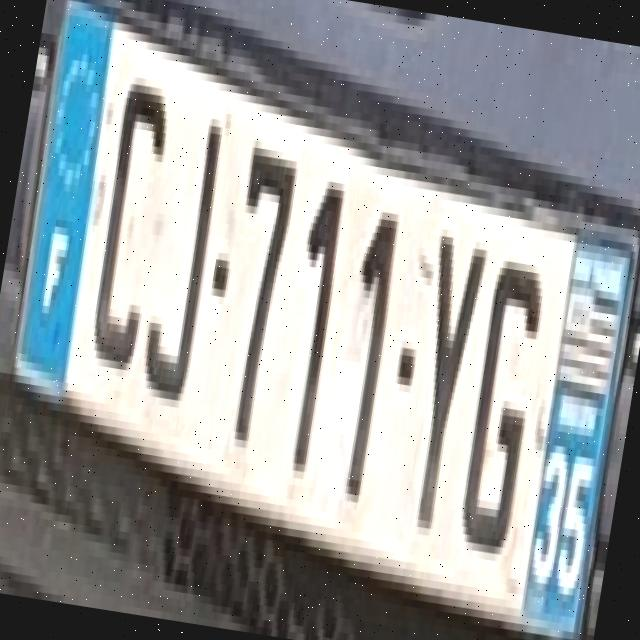EU: (16, 0, 636, 638)
France: (16, 0, 115, 396)
